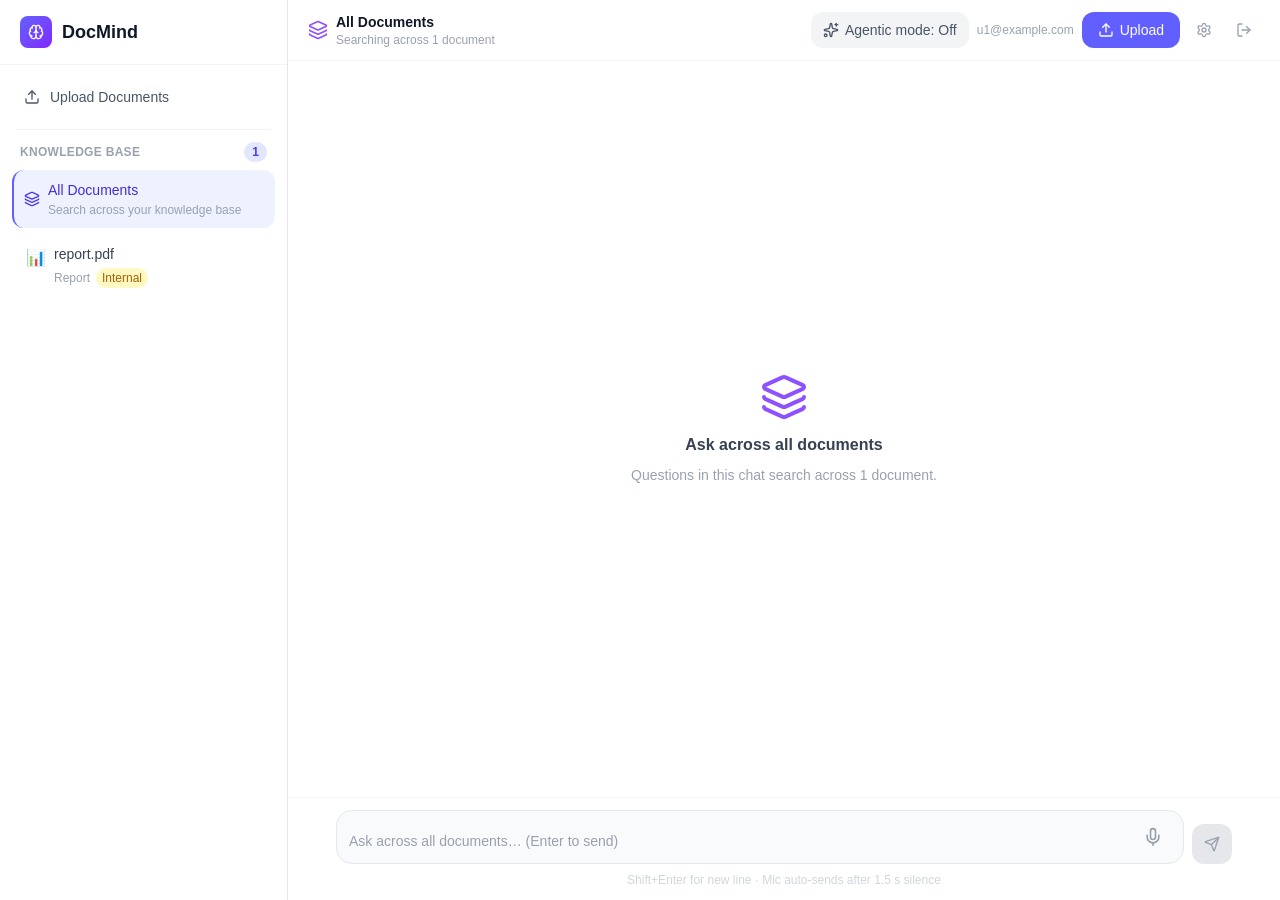
Test: service errors in chat › shows the notice as an alert and leaves the failed turn out of the next request
This screenshot has width=1280, height=900.
Type "What is the total?" into the text box with placeholder "Ask across all documents… (Enter to send)" at [738, 841], box [349,827,1127,855]
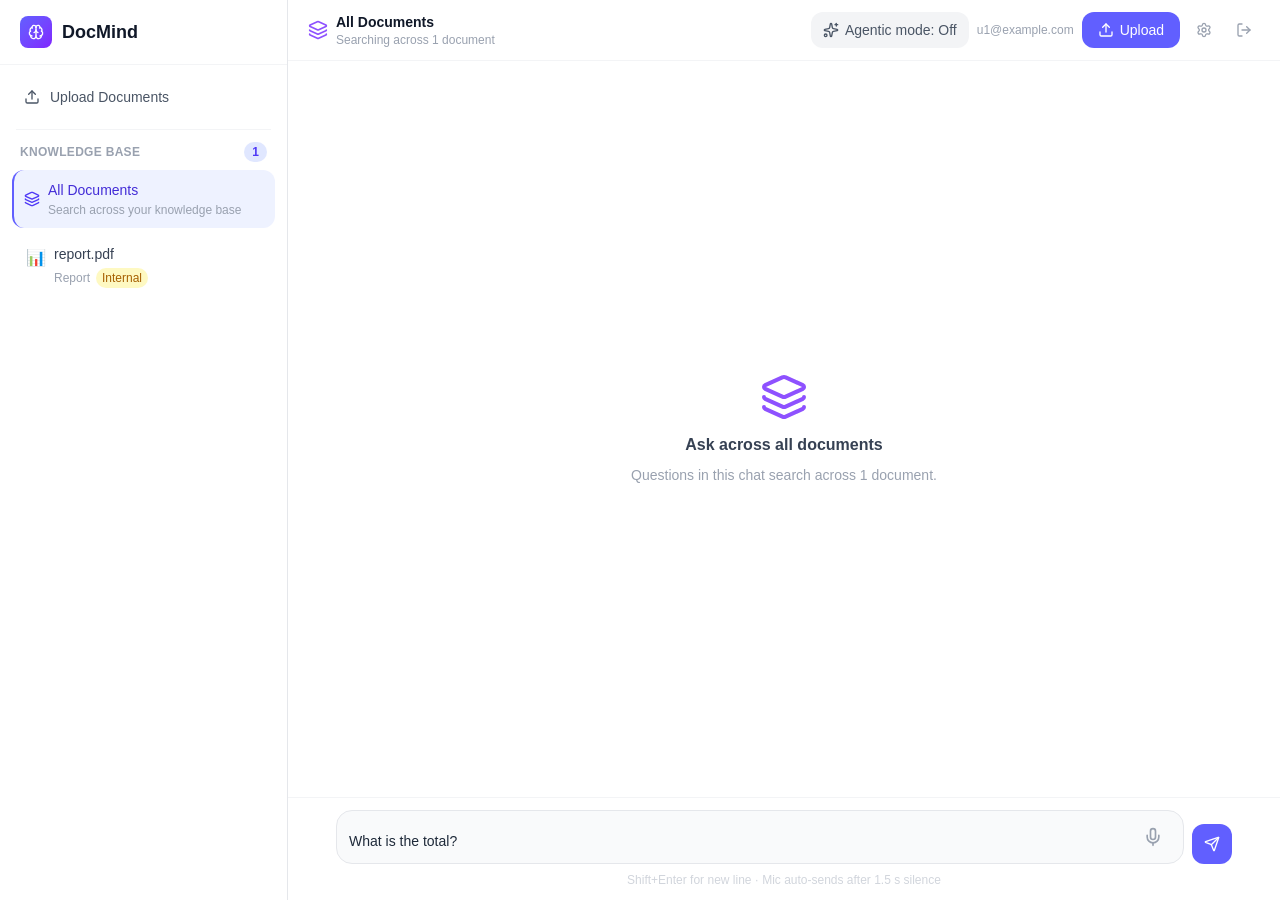
Press Enter in the text box with placeholder "Ask across all documents… (Enter to send)", box [349,827,1127,855]
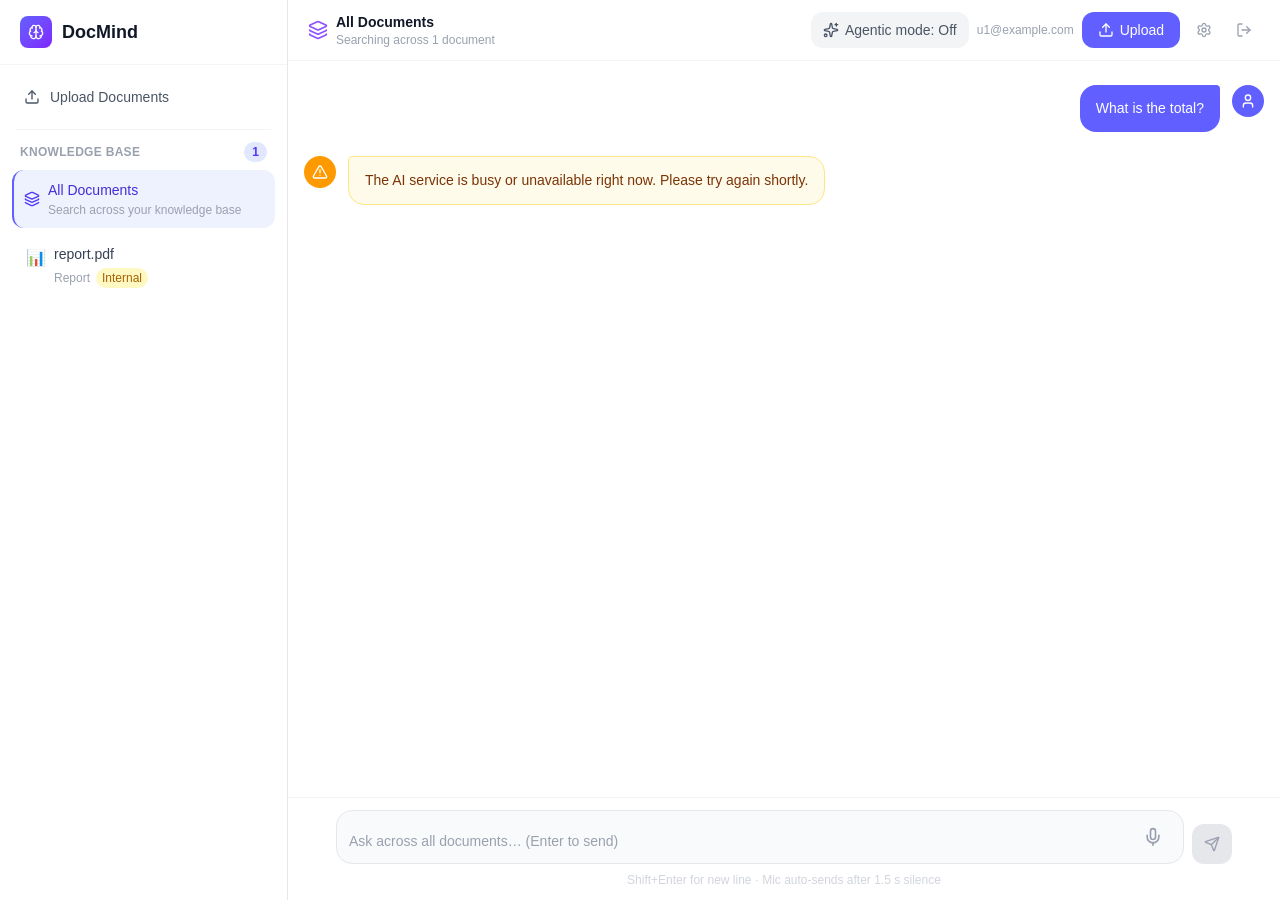
Expected: the message reads "The AI service is busy or unavailable right now. Please try again shortly.", [365,172,808,188]
Type "What is the total, again?" into the text box with placeholder "Ask across all documents… (Enter to send)" at [738, 841], box [349,827,1127,855]
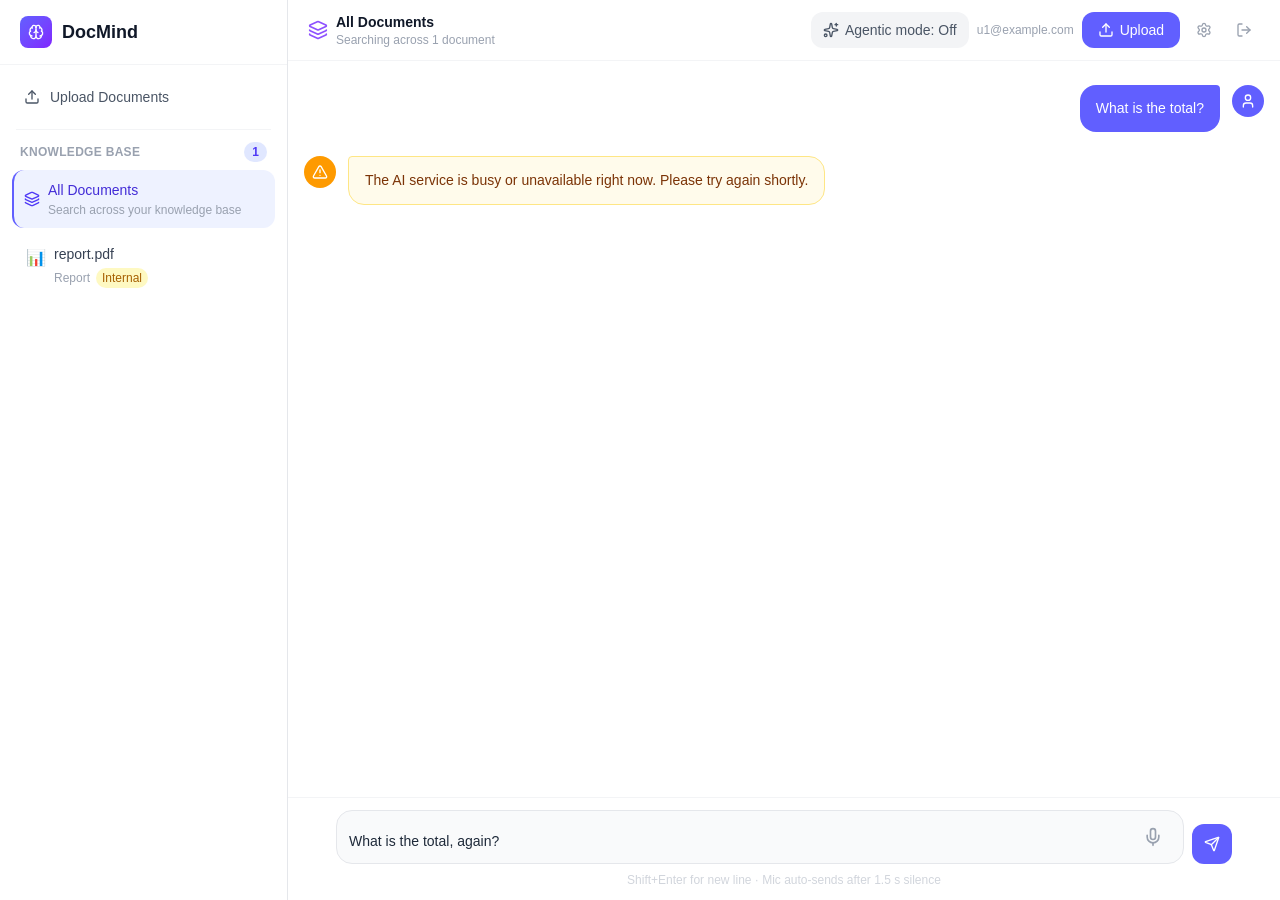
Press Enter in the text box with placeholder "Ask across all documents… (Enter to send)", box [349,827,1127,855]
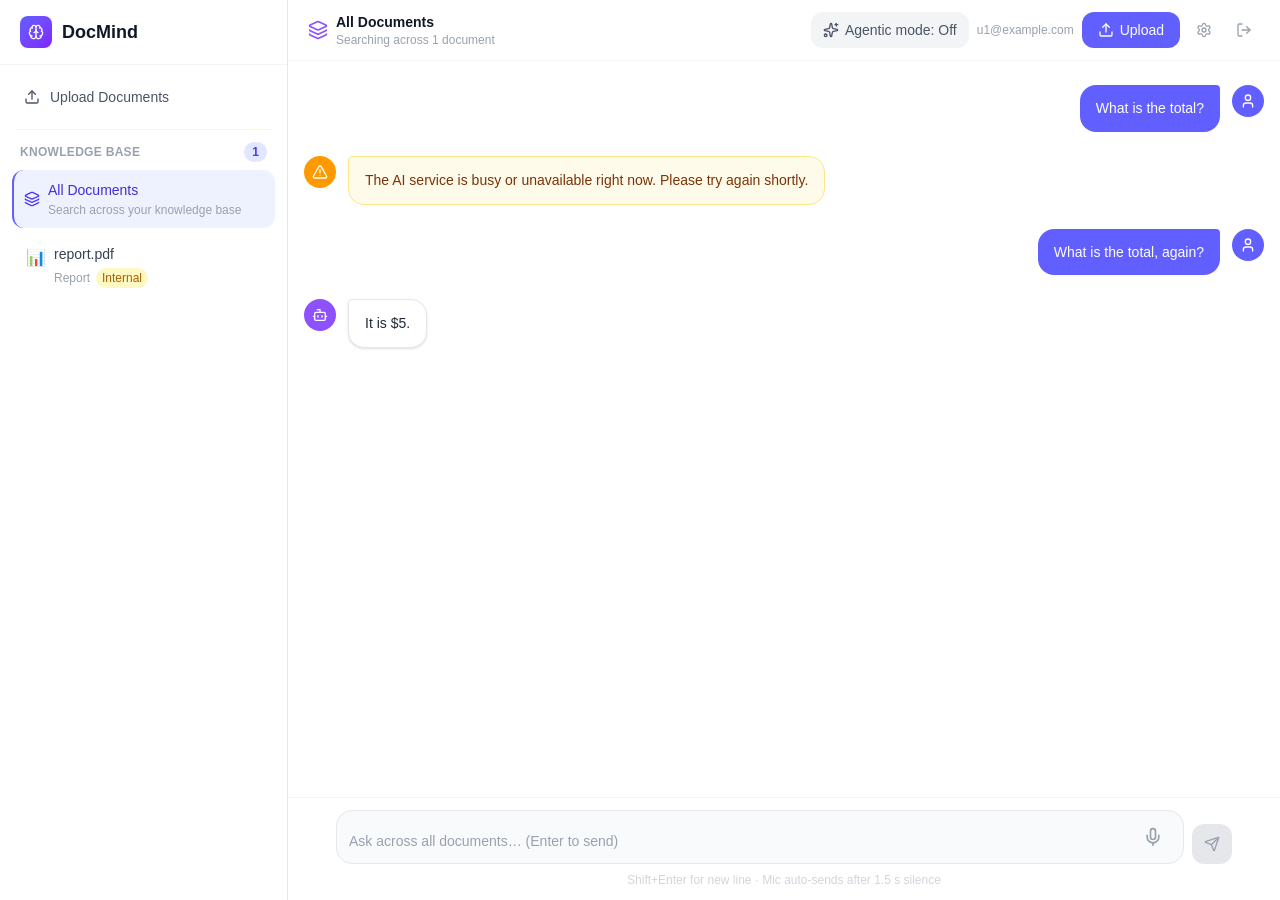
Expected: the number of messages is 1, [348,156,825,205]
Expected: the text "It is $5." is shown, [365,312,410,335]
